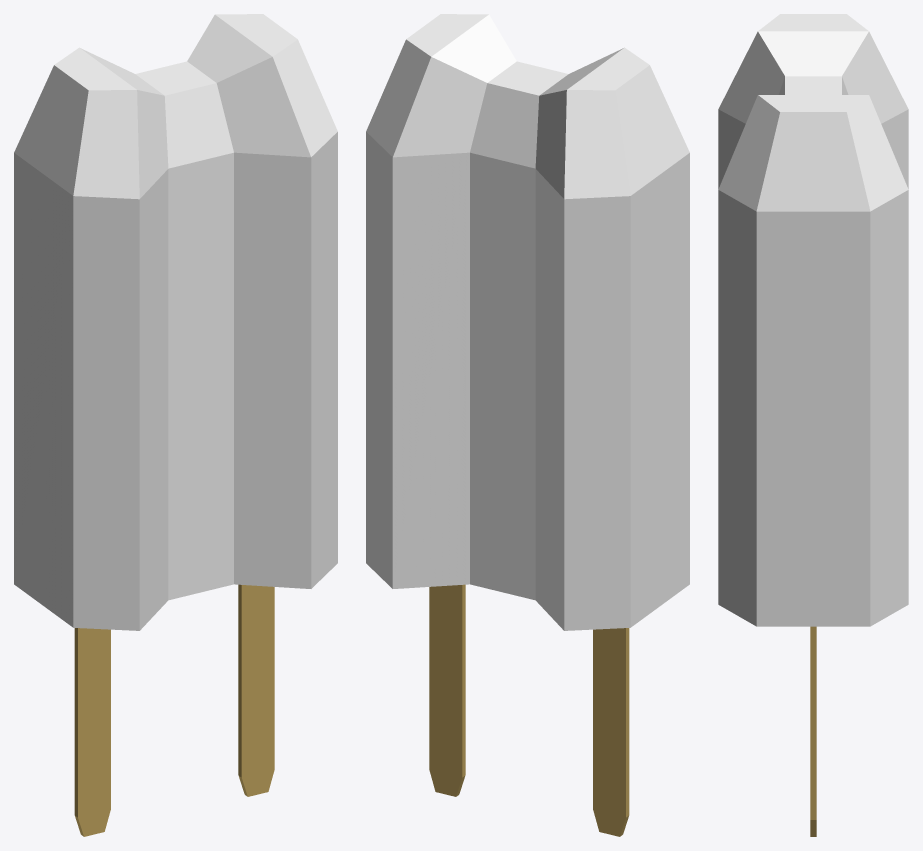
Rendered from Coconut Popsicle.fbx.
3 views of the same model, side by side, from view 1: azimuth 30°, elevation 25°; view 2: azimuth 150°, elevation 25°; view 3: azimuth 270°, elevation 25° (orthographic). The views are drawn at different scales.
Visible parts, largest first — view 1: Coconut Popsicle; view 2: Coconut Popsicle; view 3: Coconut Popsicle.
Boxes of the visible parts, x1,y1,x2,y2 form: Coconut Popsicle: (14, 14, 337, 836); Coconut Popsicle: (366, 14, 689, 836); Coconut Popsicle: (718, 14, 908, 836).
Size of the model in its own units: 4.11 by 11.3 by 2.67.
